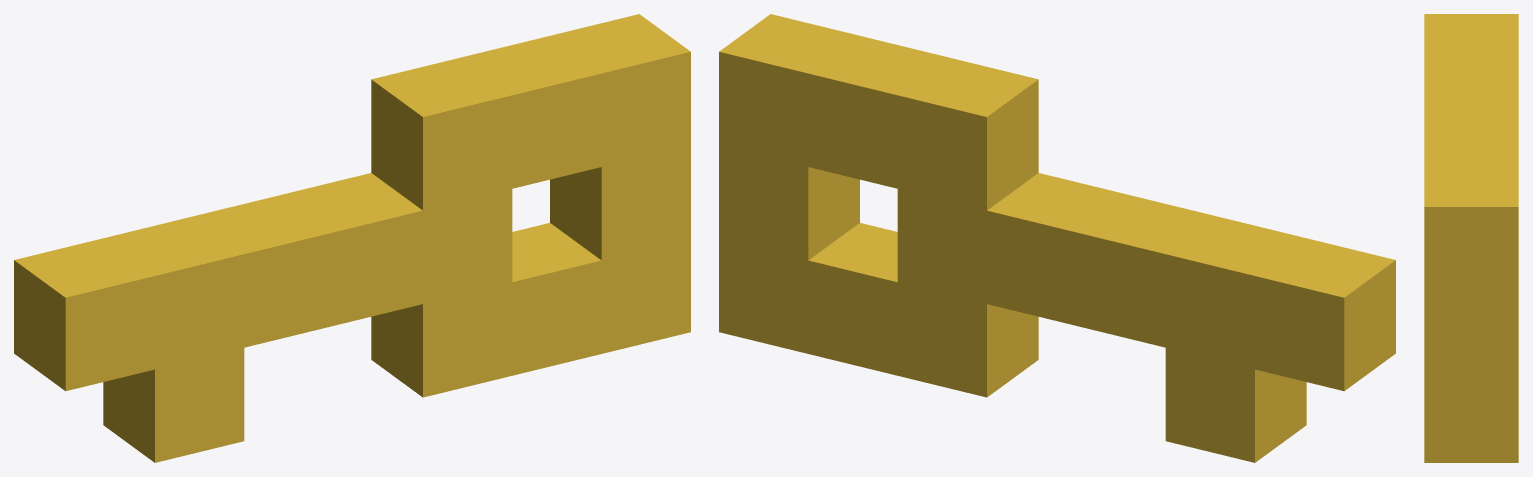
Rendered from KeyBoss.dae.
3 renders of one model, left to right at view 1: azimuth 30°, elevation 25°; view 2: azimuth 150°, elevation 25°; view 3: azimuth 270°, elevation 25°, orthographic. The views are drawn at different scales.
Visible parts, largest first — view 1: Key-local; view 2: Key-local; view 3: Key-local.
Part boxes in pixels (x1,y1,x2,y2): Key-local: (14, 14, 690, 462); Key-local: (719, 14, 1395, 462); Key-local: (1424, 14, 1518, 462).
Size of the model in its own units: 7 by 3 by 1.
Materials: 1 (1 with a texture image).
